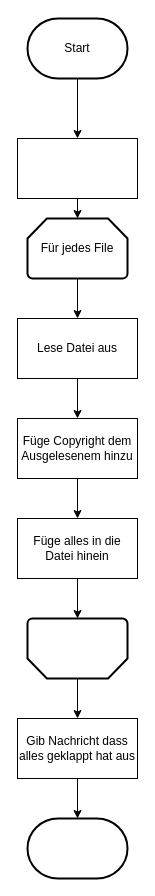
Image size: 155x896. Some labels were removed from this diagram. Each missing label, with the centre of its shape:
"Ende" goes at point 77,848.
"Hole Alle .c Files" goes at point 77,168.
"Solange, bis es für alle getan wurde" goes at point 77,648.
